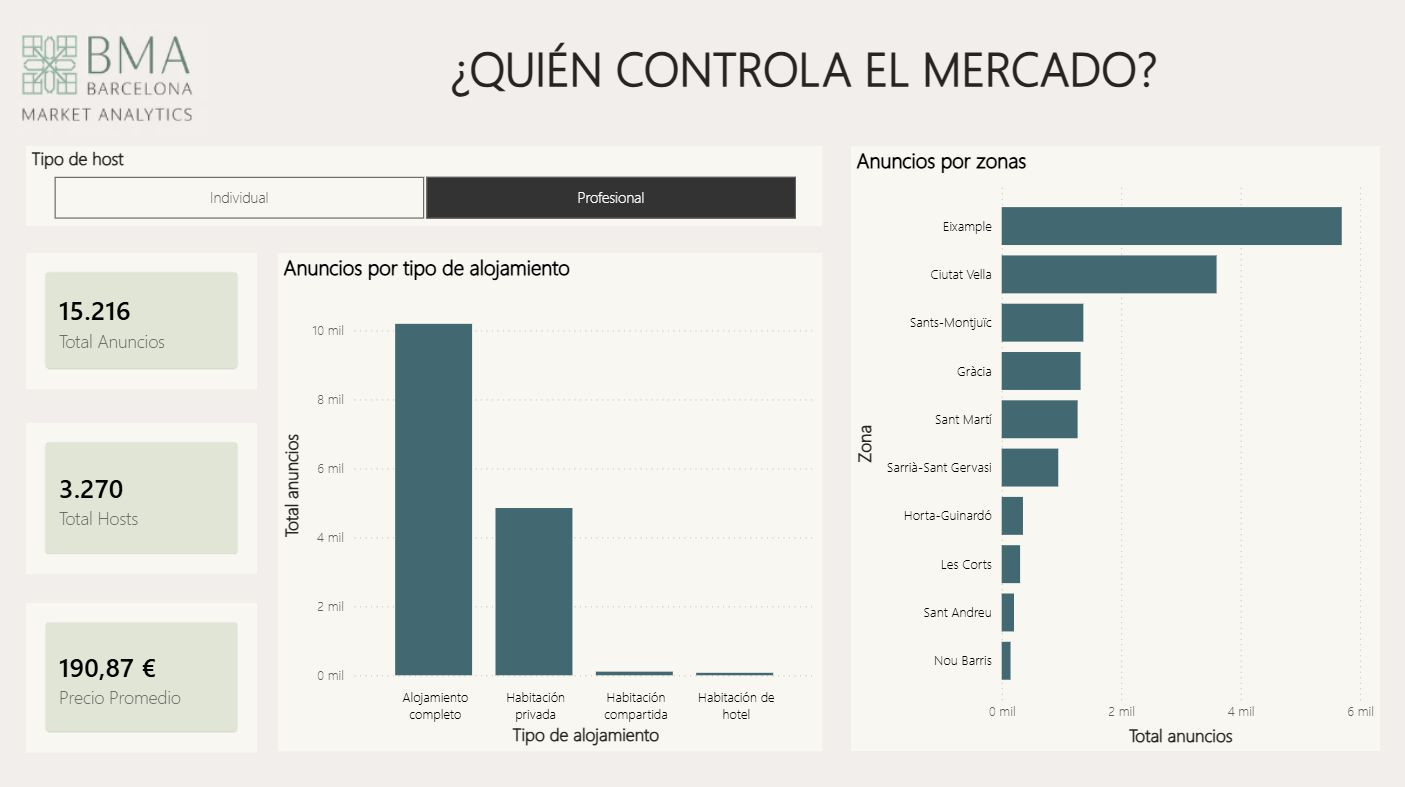

The page's visual inventory and layout, read from the dashboard file:
{"tool":"powerbi","page":{"name":"Página 2","canvas":[1280,720],"ordinal":2},"visuals":[{"type":"slicer","title":"Tipo de host","fields":{"Values":["airbnb_barcelona_2025 dim_host.tipo_host"]},"box":[24.9,132.4,723.6,72.7],"z":0},{"type":"cardVisual","fields":{"Data":["Medidas.Total Anuncios"]},"box":[24.9,229.9,210.1,123.9],"z":1000},{"type":"cardVisual","fields":{"Data":["Medidas.Total Hosts"]},"box":[24.9,384.3,210.1,137.4],"z":2000},{"type":"cardVisual","fields":{"Data":["Medidas.Precio Promedio"]},"box":[24.9,547.7,210.1,135.6],"z":3000},{"type":"clusteredColumnChart","title":"Anuncios por tipo de alojamiento","fields":{"Category":["airbnb_barcelona_2025 dim_tipo_alojamiento.tipo_alojamiento"],"Y":["Medidas.Total Anuncios"]},"box":[253.8,229.9,494.7,452.9],"z":4000},{"type":"clusteredBarChart","title":"Anuncios por zonas","fields":{"Y":["Medidas.Total Anuncios"],"Category":["airbnb_barcelona_2025 dim_barrio.zona"]},"box":[774.4,132.4,480.7,550.4],"z":5000},{"type":"textbox","box":[183.1,26.9,1096.9,73.7],"z":6000}]}

Visuals, with their boxes in screenshot pixels (x1, y1, x2, y2), scaled from the page's 1280x720 canvas onto the 1405x787 screenshot:
"Tipo de host" slicer: bbox(27, 145, 822, 224)
cardVisual - Medidas.Total Anuncios: bbox(27, 251, 258, 387)
cardVisual - Medidas.Total Hosts: bbox(27, 420, 258, 570)
cardVisual - Medidas.Precio Promedio: bbox(27, 599, 258, 747)
"Anuncios por tipo de alojamiento" clusteredColumnChart: bbox(279, 251, 822, 746)
"Anuncios por zonas" clusteredBarChart: bbox(850, 145, 1378, 746)
textbox: bbox(201, 29, 1404, 110)
